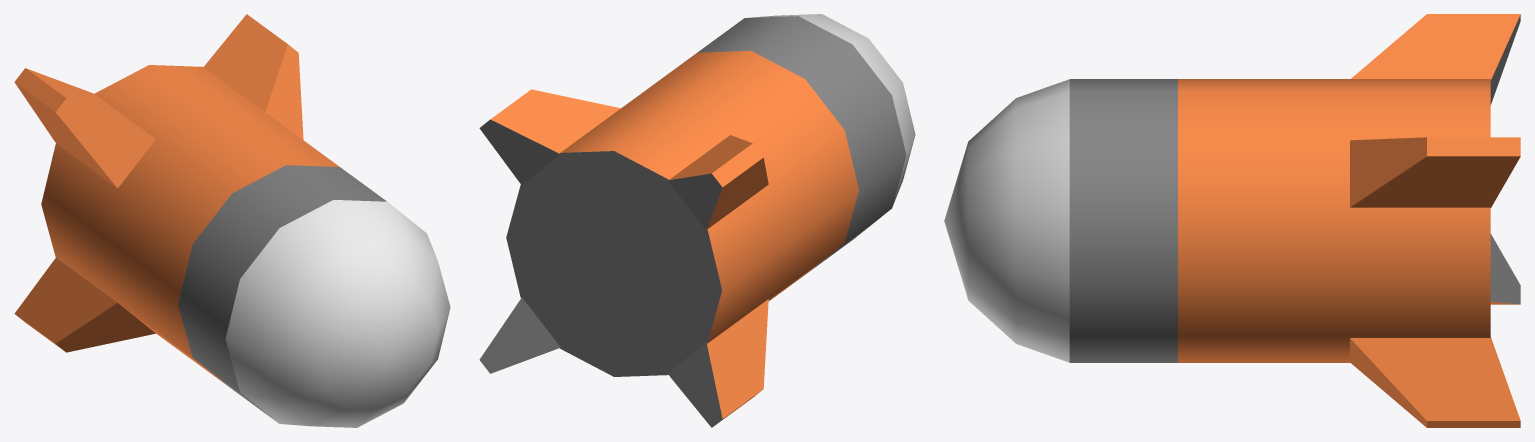
The model's file is rocket.gltf.
3 views of the same model, side by side, from view 1: azimuth 30°, elevation 25°; view 2: azimuth 150°, elevation 25°; view 3: azimuth 270°, elevation 25° (orthographic). The views are drawn at different scales.
Visible parts, largest first — view 1: Cylinder.002; view 2: Cylinder.002; view 3: Cylinder.002.
Boxes of the visible parts, x1=… form: Cylinder.002: x1=14, y1=14, x2=450, y2=427; Cylinder.002: x1=479, y1=14, x2=915, y2=427; Cylinder.002: x1=944, y1=14, x2=1520, y2=427.
Bounding box in the file's own units: 0.6144 × 0.6144 × 1.1.
